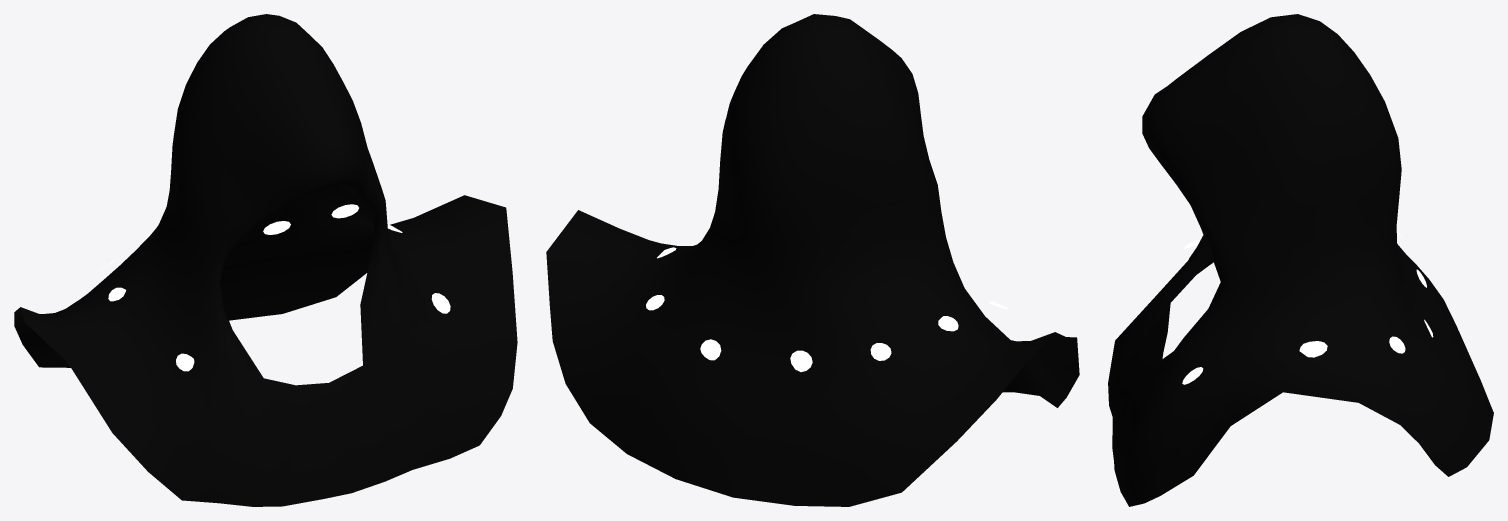
File: Reaper-Black-Head.glb
3 renders of one model, left to right at view 1: azimuth 30°, elevation 25°; view 2: azimuth 150°, elevation 25°; view 3: azimuth 270°, elevation 25°, orthographic. The views are drawn at different scales.
Visible parts, largest first — view 1: Reaper-Black-Head; view 2: Reaper-Black-Head; view 3: Reaper-Black-Head.
Boxes of the visible parts, x1,y1,x2,y2 form: Reaper-Black-Head: (14, 14, 517, 506); Reaper-Black-Head: (546, 14, 1079, 506); Reaper-Black-Head: (1108, 14, 1493, 506).
Size of what is drawn, in the model's own units: 0.8217 by 0.6787 by 0.5547.
Materials: 1 (1 with a texture image).
